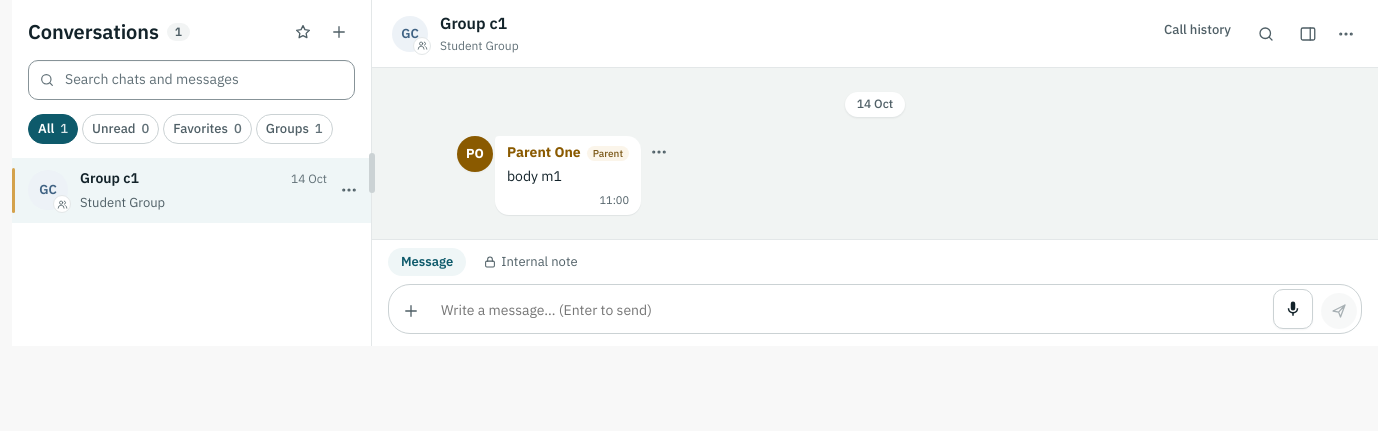
Test: Admin chat workspace › a sent message appears ONCE: the pending echo is replaced by the server copy
expect the text "body m1" is shown: met, box [507,166,562,187]
Type "hello parent" into the dropdown labelled "message" at (851, 311), box [437,293,1265,329]
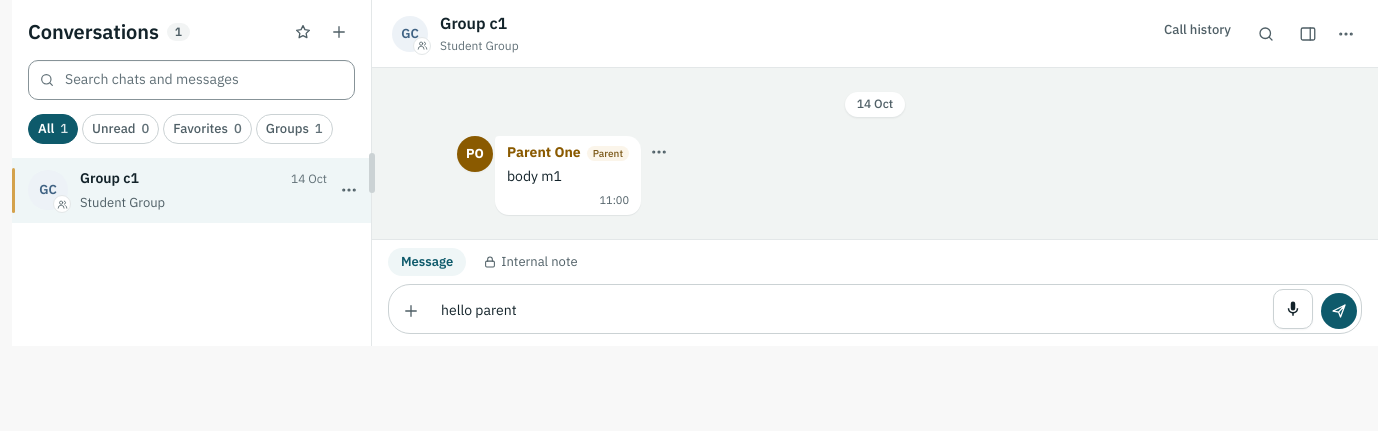
Click the button named "Send" at (1339, 311), box [1321,293,1357,329]
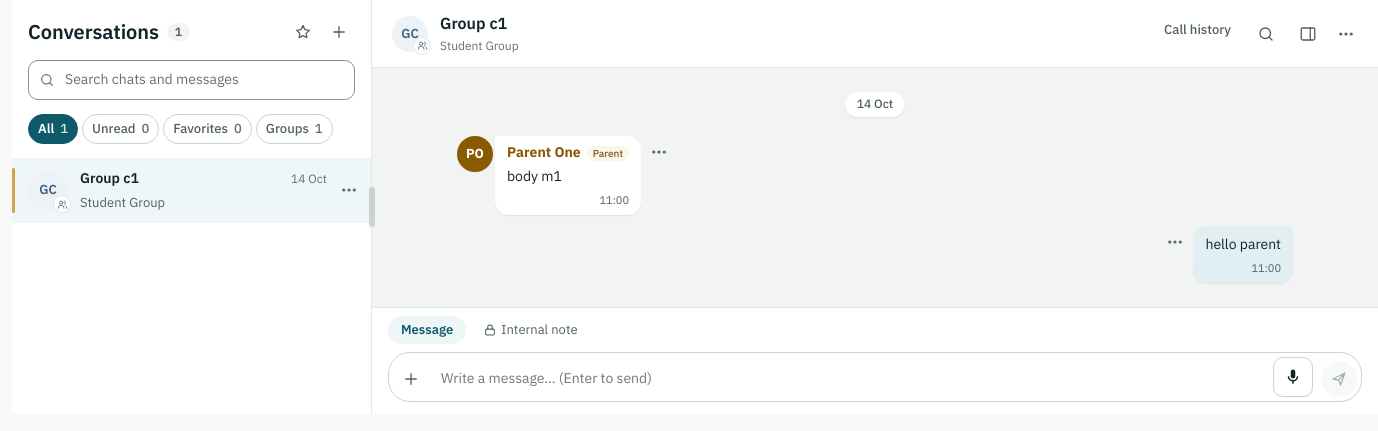
expect the text "hello parent" is shown once: met, box [1206,234,1281,256]
